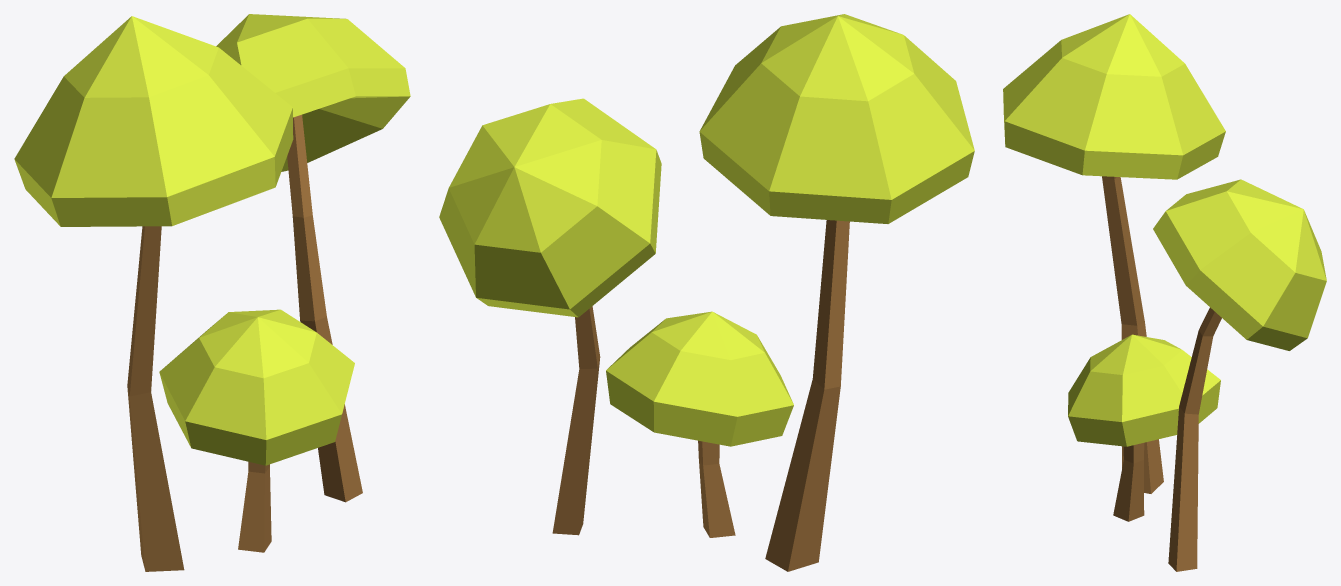
Rendered from mushroom3.glb.
The picture shows the model from 3 angles, left to right: view 1: azimuth 30°, elevation 25°; view 2: azimuth 150°, elevation 25°; view 3: azimuth 270°, elevation 25°; orthographic projection. The views are drawn at different scales.
Visible parts, largest first — view 1: huitugou_2159_280; view 2: huitugou_2159_280; view 3: huitugou_2159_280.
Boxes of the visible parts, x1=… form: huitugou_2159_280: x1=14, y1=14, x2=410, y2=571; huitugou_2159_280: x1=439, y1=14, x2=974, y2=571; huitugou_2159_280: x1=1003, y1=14, x2=1326, y2=571.
Size of the model in its own units: 0.3635 by 0.4465 by 0.2875.
Materials: 1 (1 with a texture image).
